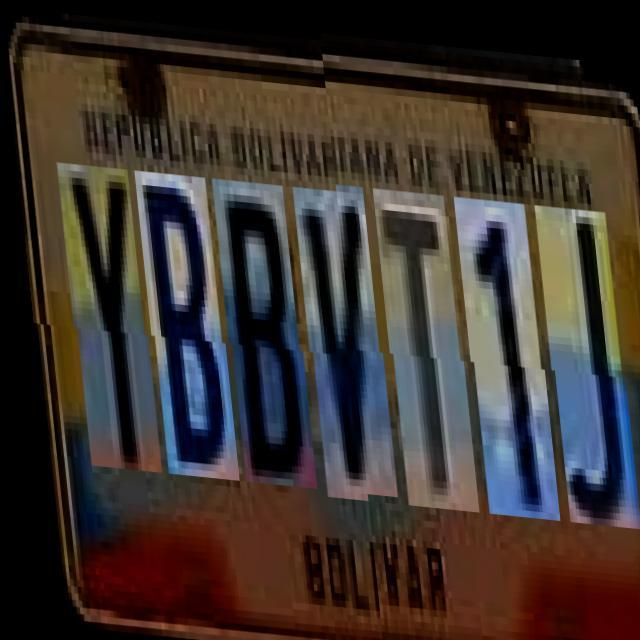1: (454, 194, 550, 516)
B: (134, 168, 230, 477), (212, 174, 307, 483)
J: (536, 201, 632, 523)
T: (374, 188, 470, 510)
V: (292, 181, 388, 496)
Y: (57, 162, 152, 470)
